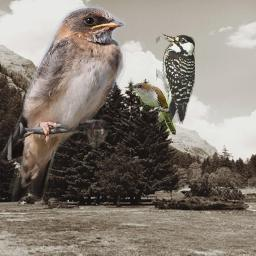Cuckoo: (127, 83, 176, 135)
Swallow: (0, 5, 126, 202)
Woodpecker: (156, 33, 195, 137)
